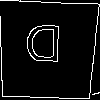D: (23, 25, 63, 72)
